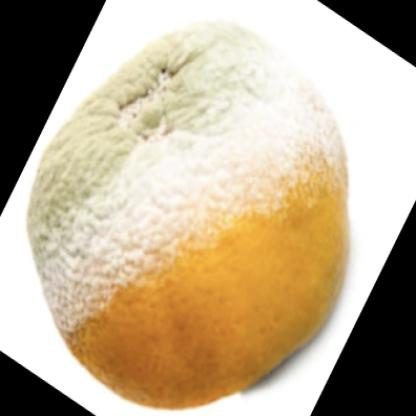rotten: (31, 23, 349, 406)
